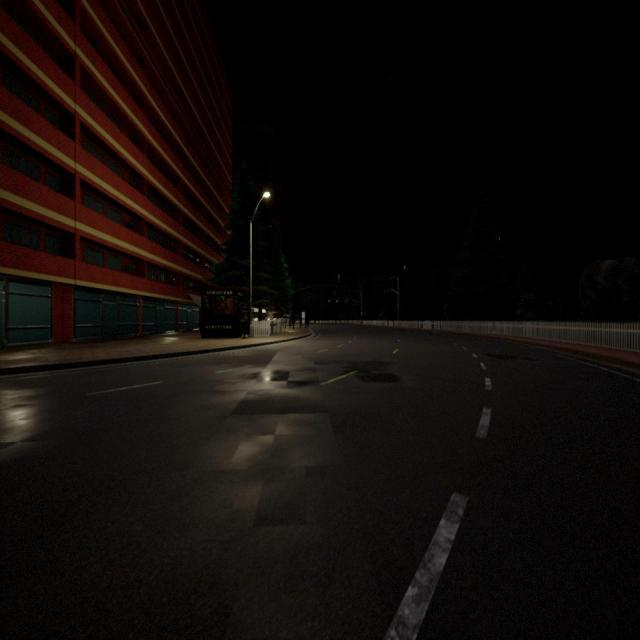Pedestrian: (291, 314, 297, 329)
traffic_light: (336, 299, 338, 303), (361, 310, 362, 316), (328, 300, 330, 302), (346, 300, 348, 302)
